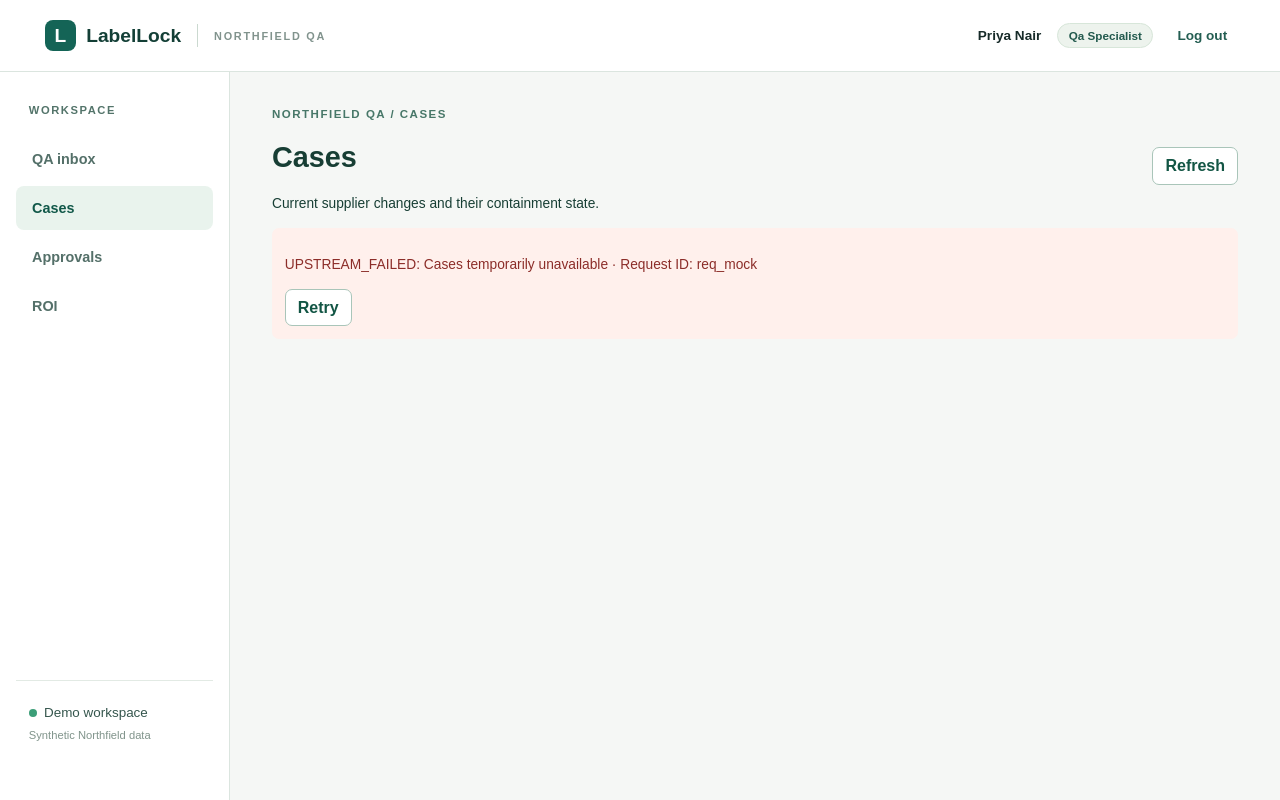
Scenario: cases list › retries an API error
Expected: the message shows "Cases temporarily unavailable", [285,256,757,272]
What coordinates should you click on to do the following:
click the button "Retry"
I would click on:
 (318, 308)
Its box is [285,289,352,326].
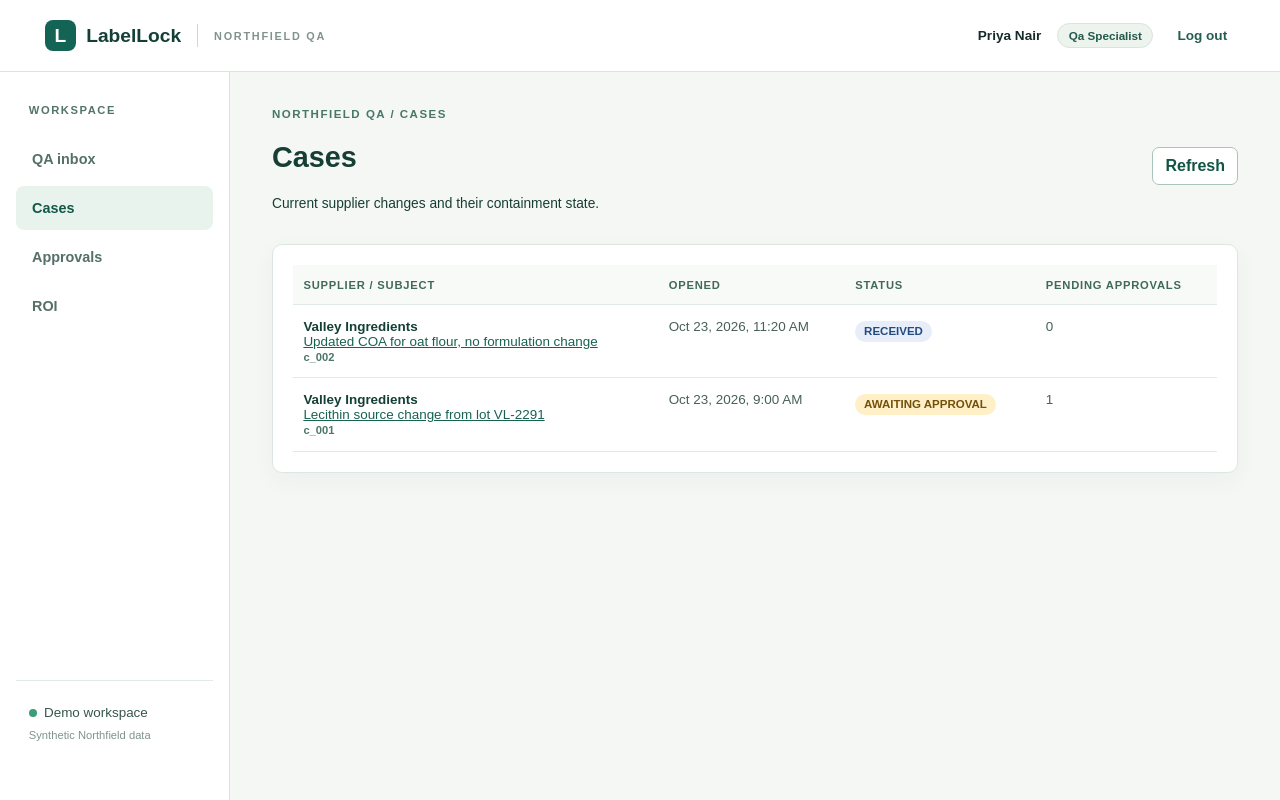
Now the table is shown, box [293,265,1217,452]
